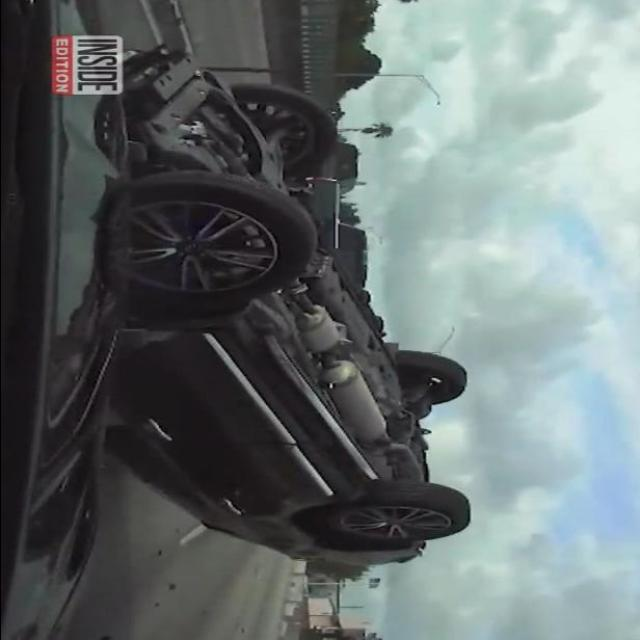accident: (95, 41, 481, 571)
